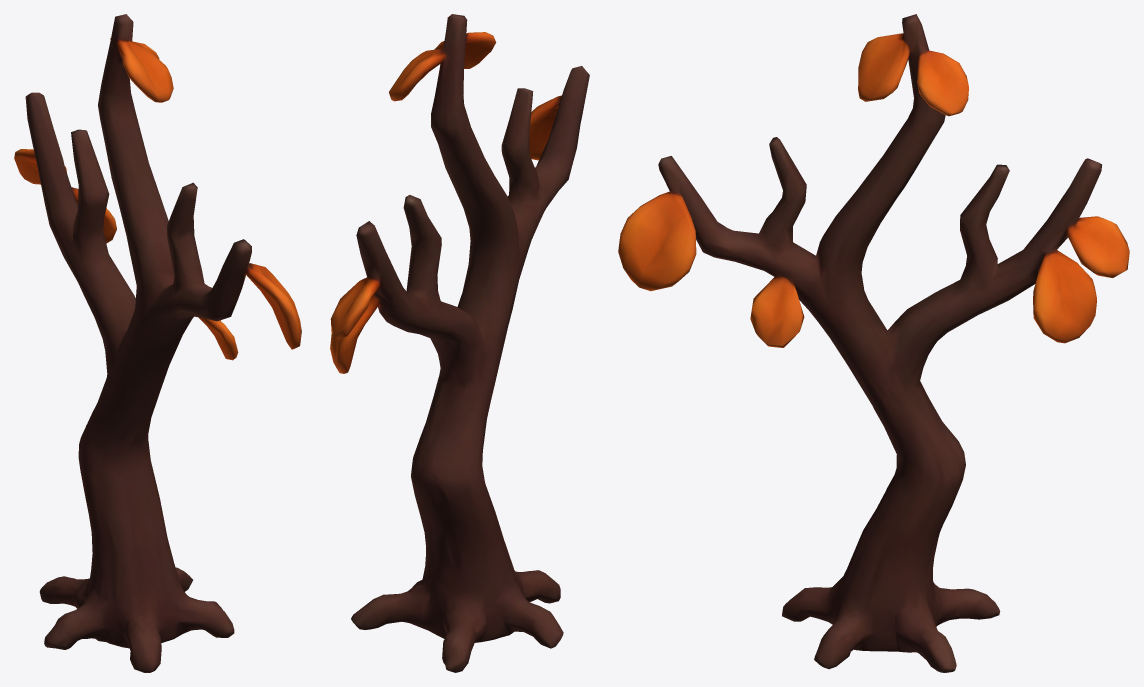
File: pro_sapling-iBXblmnB.glb
3 views of the same model, side by side, from view 1: azimuth 30°, elevation 25°; view 2: azimuth 150°, elevation 25°; view 3: azimuth 270°, elevation 25° (orthographic). The views are drawn at different scales.
Visible parts, largest first — view 1: tripo_node_ab12edfe-31b9-415a-8645-cc1637ff88d6; view 2: tripo_node_ab12edfe-31b9-415a-8645-cc1637ff88d6; view 3: tripo_node_ab12edfe-31b9-415a-8645-cc1637ff88d6.
Part boxes in pixels (x1,y1,x2,y2): tripo_node_ab12edfe-31b9-415a-8645-cc1637ff88d6: (14,14,301,672); tripo_node_ab12edfe-31b9-415a-8645-cc1637ff88d6: (330,14,589,672); tripo_node_ab12edfe-31b9-415a-8645-cc1637ff88d6: (618,14,1129,672).
Size of the model in its own units: 0.3019 by 1 by 0.7483.
Materials: 1 (1 with a texture image).
